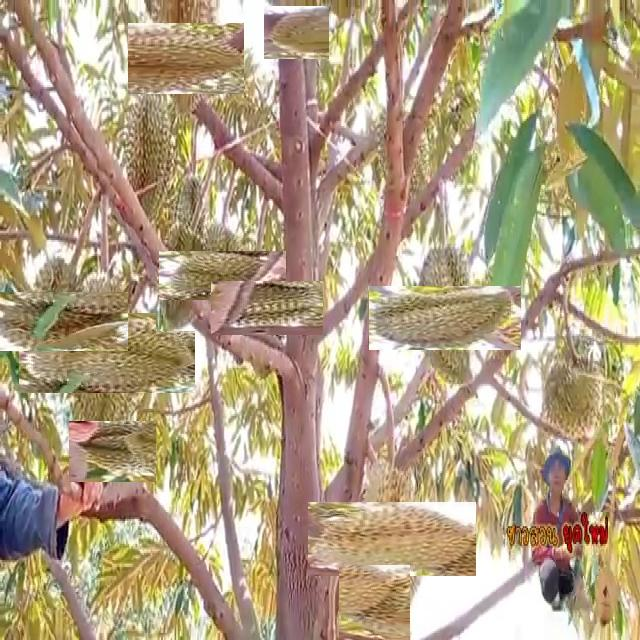durian: (43, 289, 172, 417), (332, 478, 453, 600), (391, 264, 500, 372), (11, 272, 110, 370), (139, 11, 233, 106), (178, 231, 267, 320), (123, 83, 178, 225), (225, 267, 309, 350), (156, 216, 210, 331), (543, 350, 604, 445), (337, 565, 412, 640), (75, 415, 150, 489), (267, 3, 326, 62)
